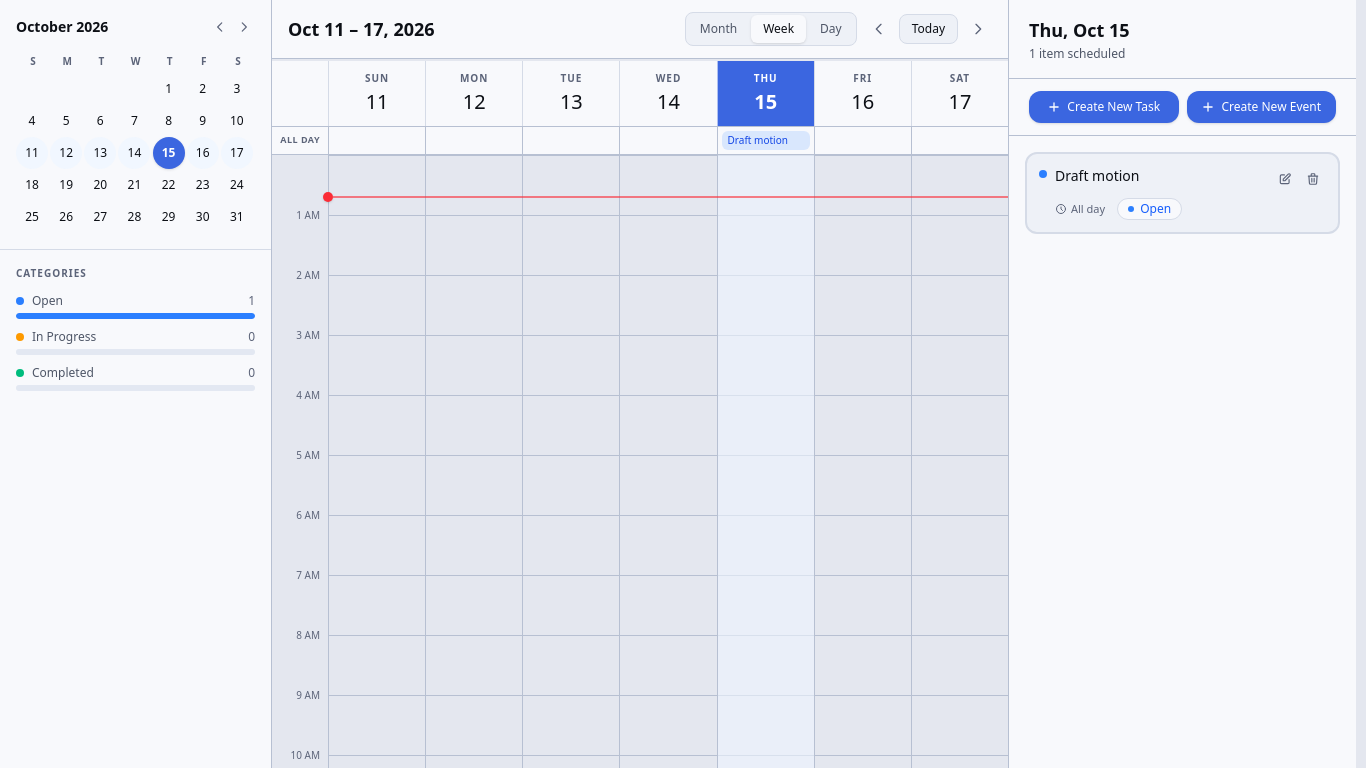
it: a refused action: the delete fails › tells the user the task was not deleted, and leaves it on the calendar
The image size is (1366, 768).
Expected: the button "Today" is shown, [899,14,958,44]
Click the button named "Delete task". click: (1313, 179)
box: [1300,166,1326,192]
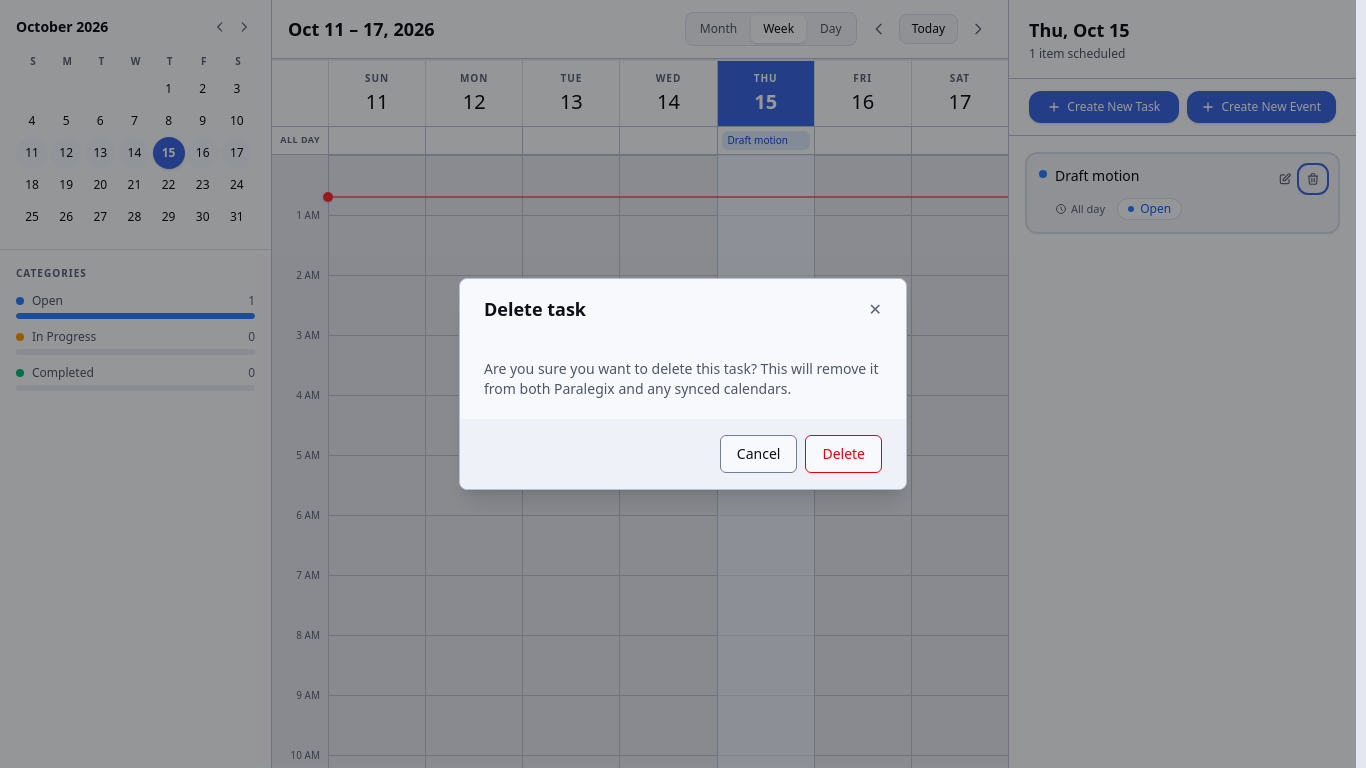
Click the button "Delete". click: (844, 454)
box: [805,435,882,473]
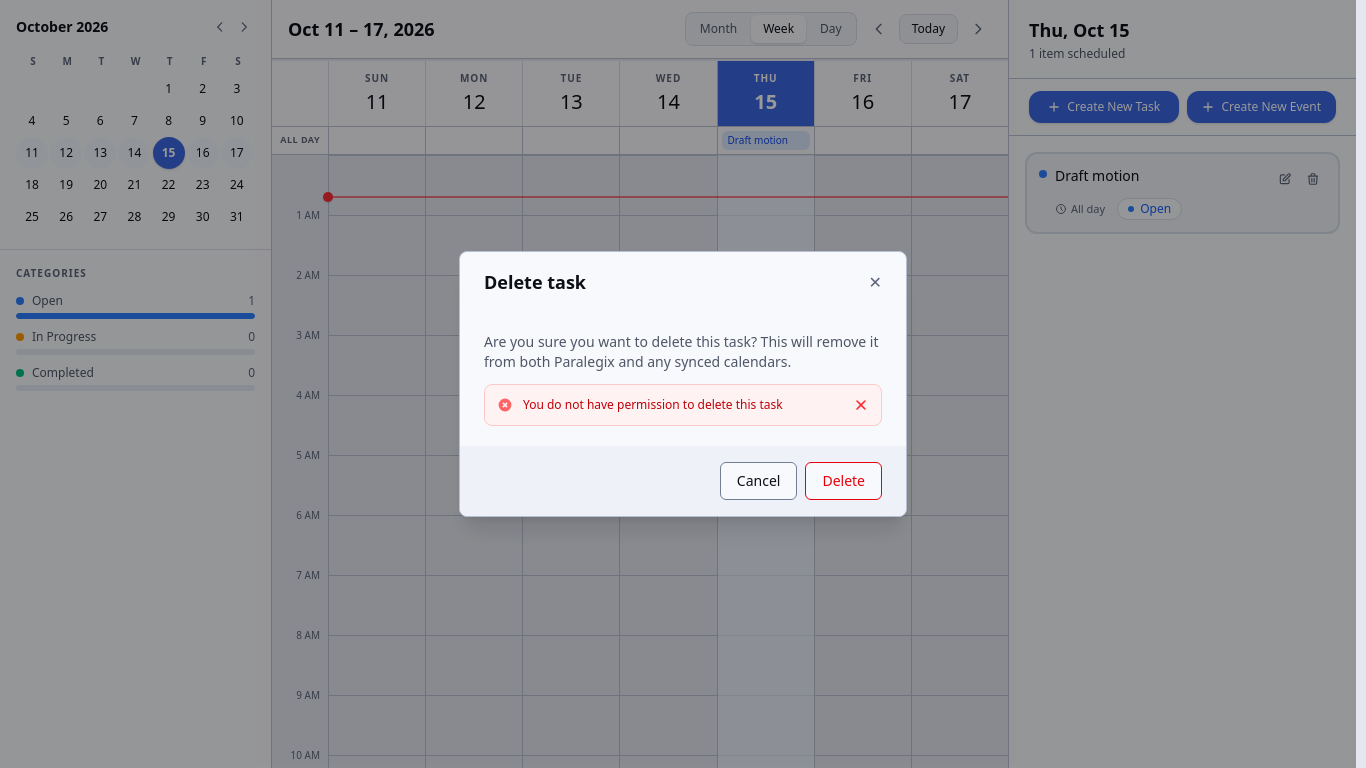
Expected: the heading "Draft motion" is shown, [1055,166,1139,186]
Result: the text "You do not have permission to delete this task" is shown at [523,396,783,413]
